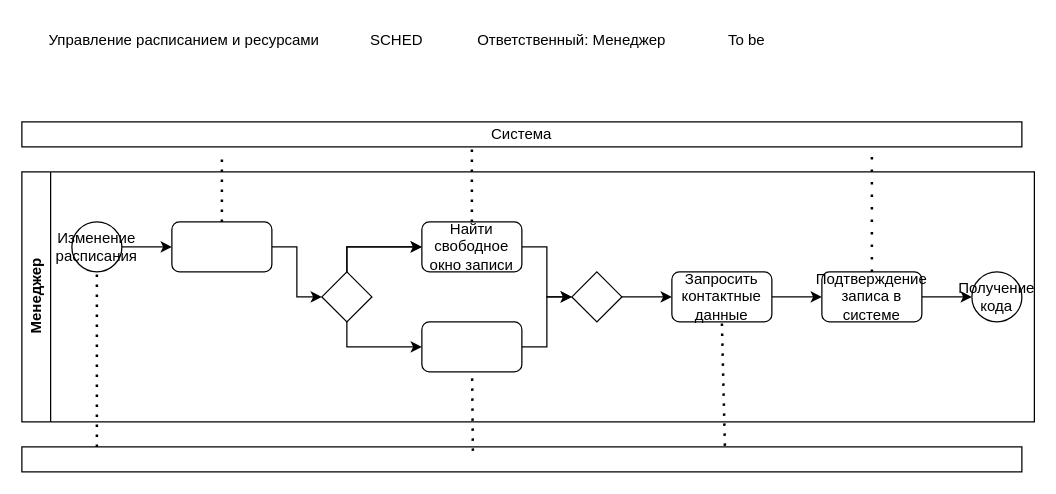
Image size: 1056x494. Some labels were removed from this diagram. The centre of each missing label's shape, as x and y in pixels:
"Клиент" belongs at point 521,459.
"Проверить расписание" belongs at point 221,246.
"Узнать потребности" belongs at point 471,346.
